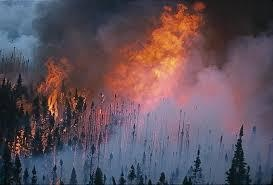fire: (107, 1, 203, 110)
